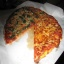pizza: (2, 8, 60, 61)
